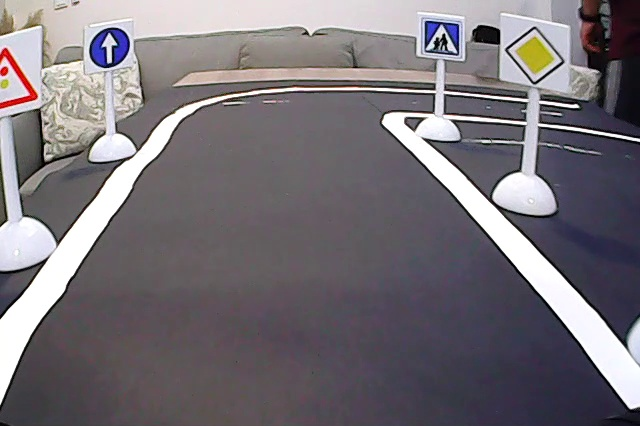red light: (1, 33, 37, 118)
school crossing: (420, 15, 464, 58)
